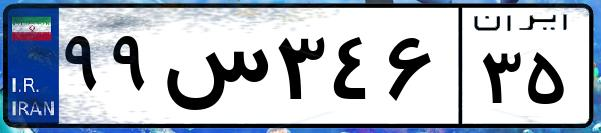3: (270, 28, 330, 110), (475, 38, 525, 113)
4: (330, 28, 385, 110)
5: (525, 38, 570, 115)
6: (385, 28, 445, 110)
9: (57, 26, 110, 100), (110, 28, 158, 98)
س: (158, 20, 270, 120)
